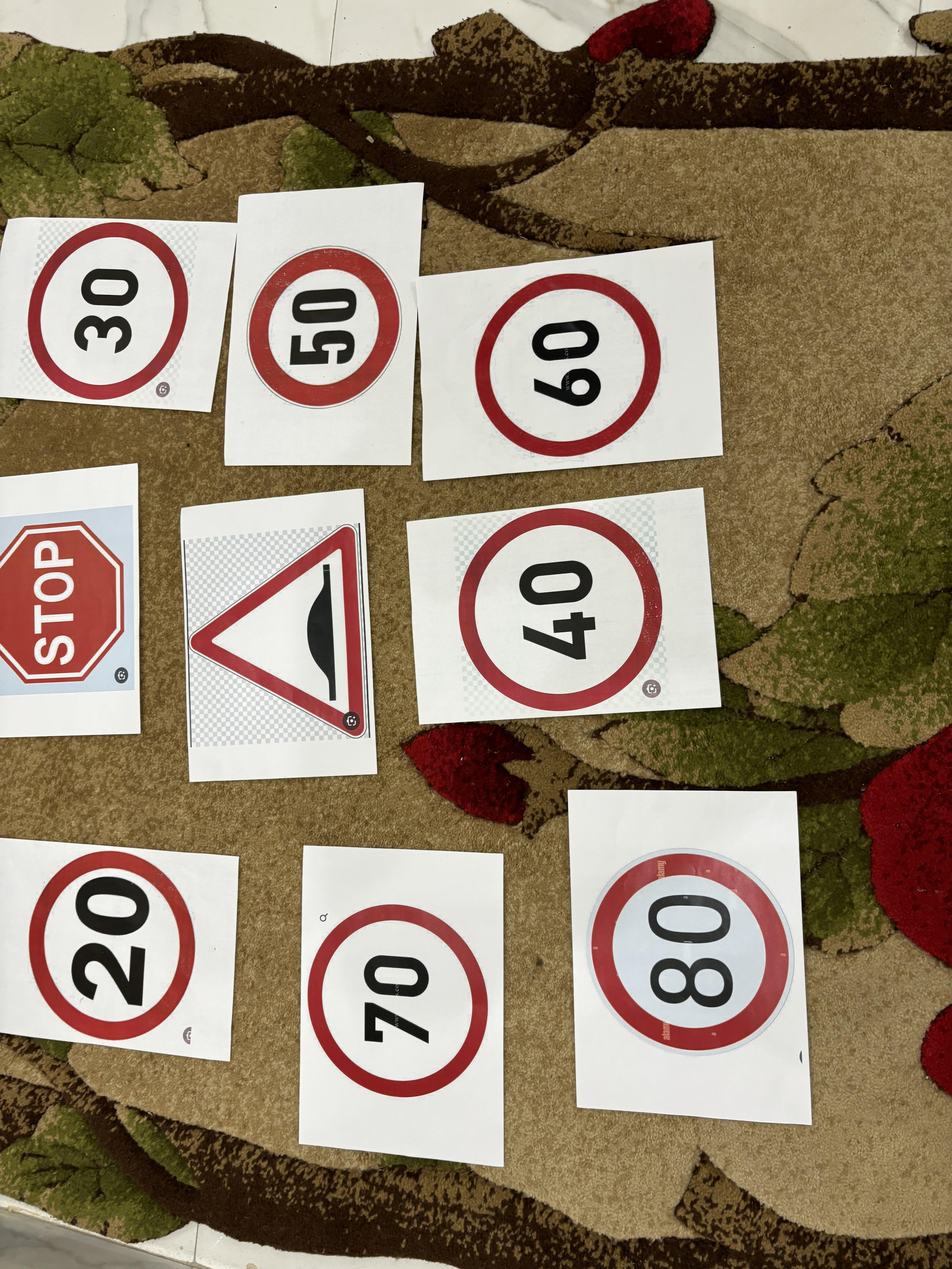20-Speed: (27, 847, 202, 1052)
30-speed: (23, 220, 194, 401)
40-Speed: (454, 498, 666, 714)
50-Speed: (243, 243, 408, 408)
60-Speed: (469, 265, 669, 461)
70-Speed: (303, 887, 493, 1109)
80-Speed: (585, 845, 799, 1059)
Hump: (189, 523, 369, 742)
Stop: (0, 494, 125, 698)
